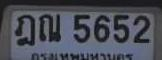2: (133, 14, 149, 42)
5: (73, 14, 89, 42), (113, 14, 128, 42)
6: (93, 14, 109, 41)
A14: (14, 14, 34, 45)
A19: (38, 13, 60, 41)
